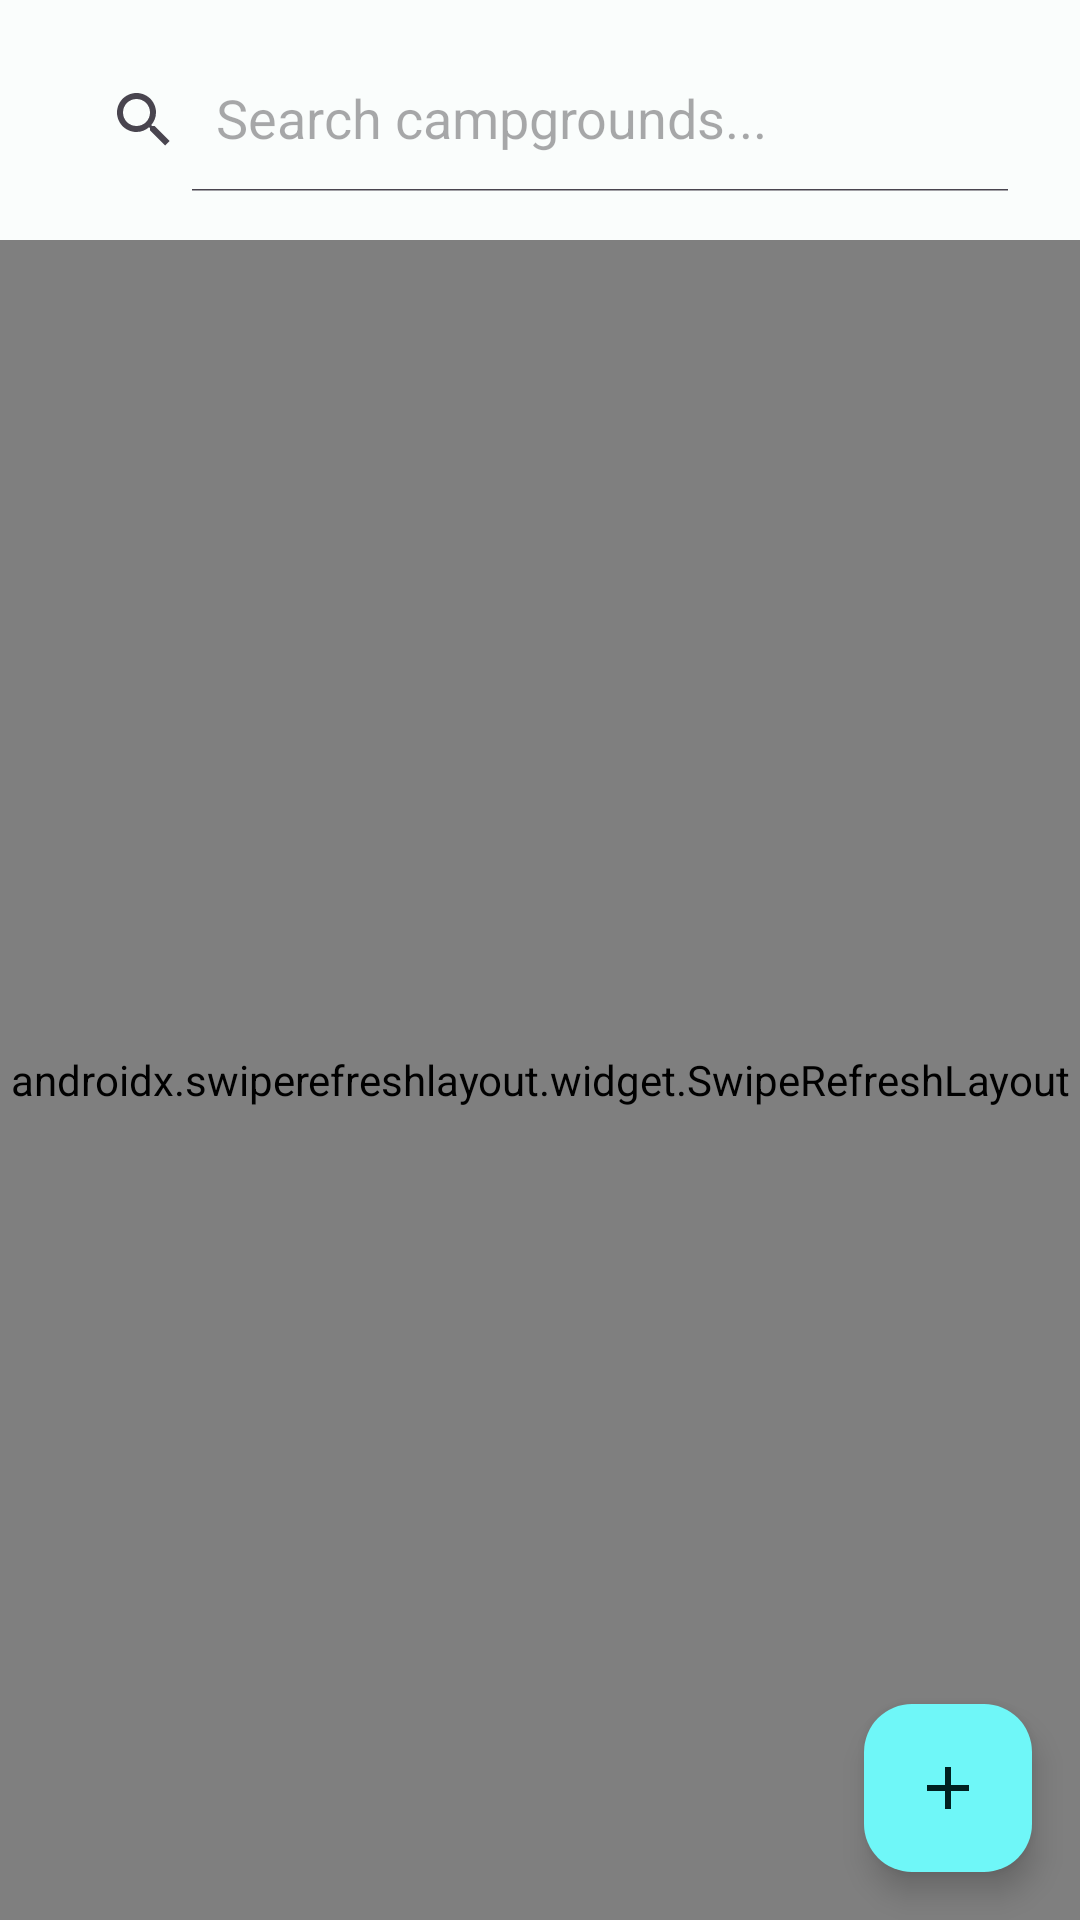

Where to tap for icons on this 1080 x 1920 app screen, as [x,y]:
Add Campground: [948,1788]
